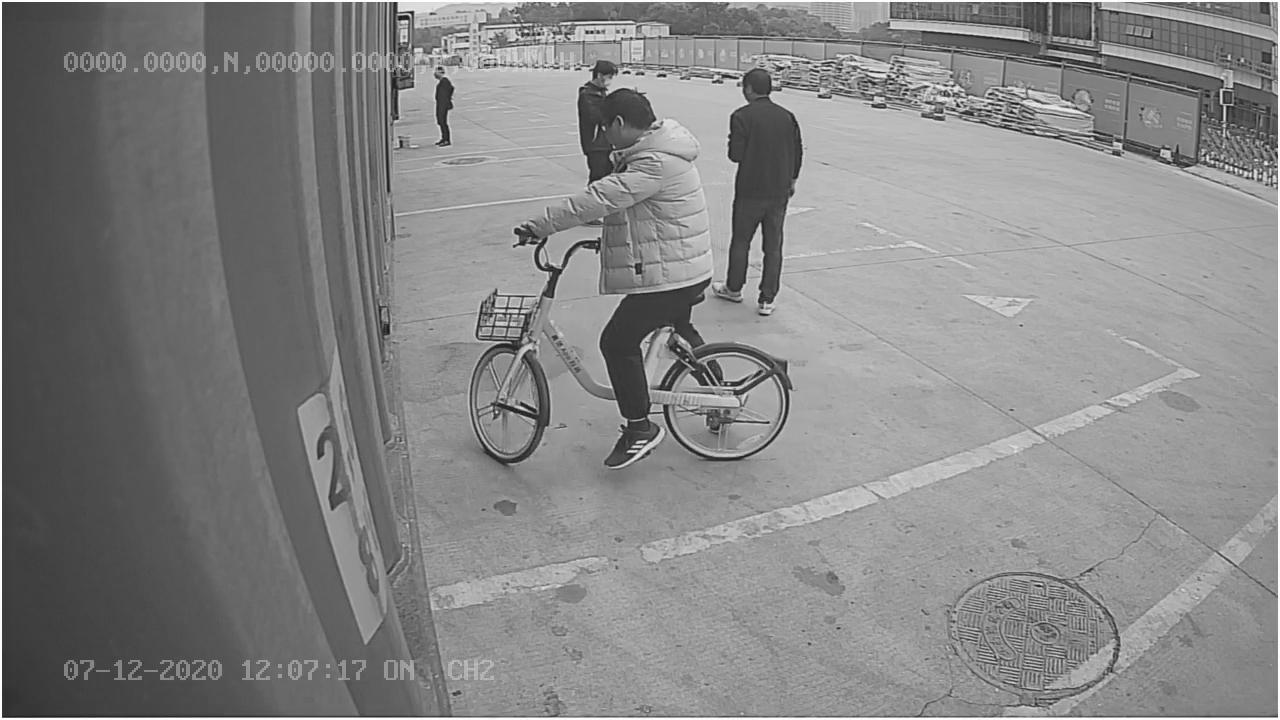person: (715, 60, 802, 315)
